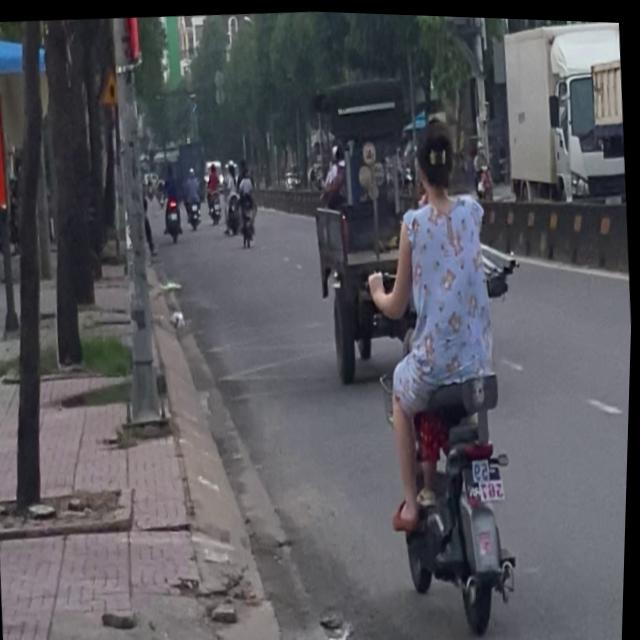licenseplate: (356, 94, 546, 640)
motorcyclist: (412, 105, 462, 199)
